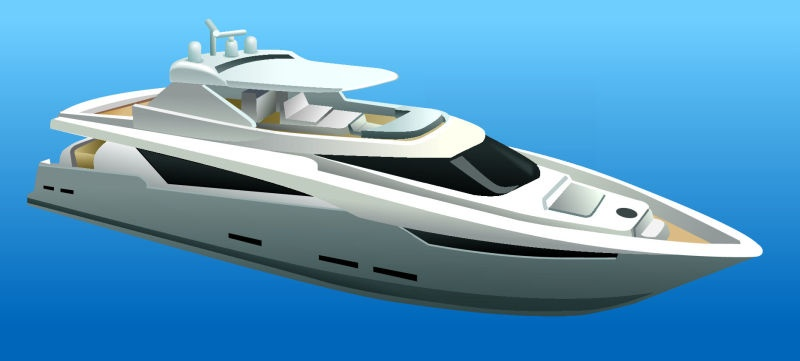yacht: (20, 17, 769, 315)
